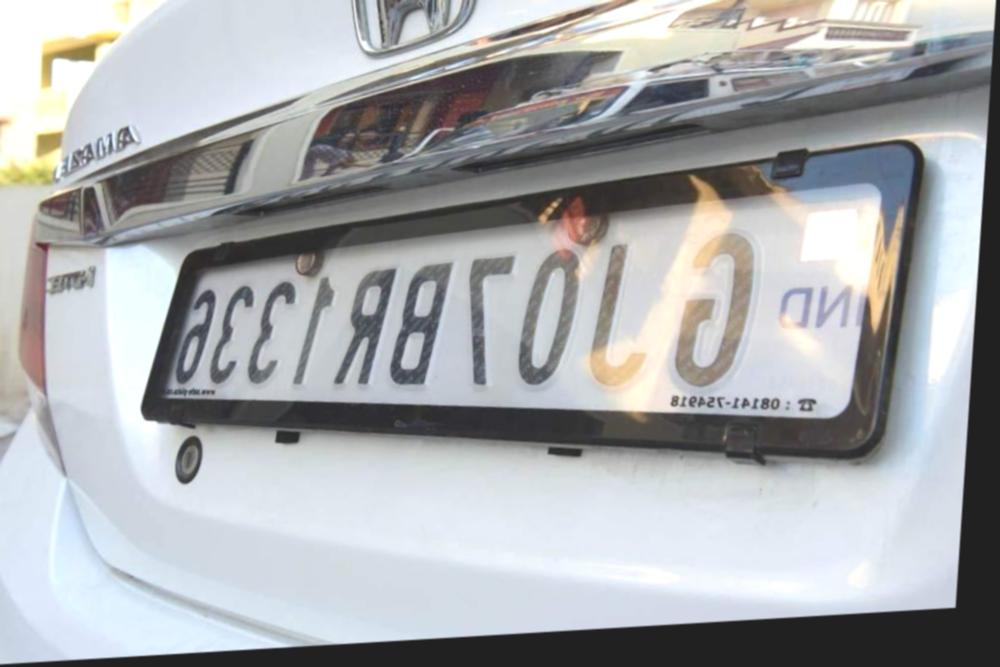License_Plate: (90, 126, 934, 553)
